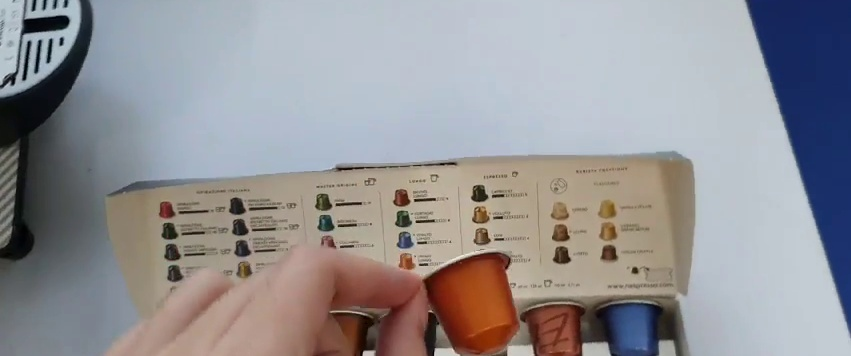capsule_5: (420, 247, 526, 356)
